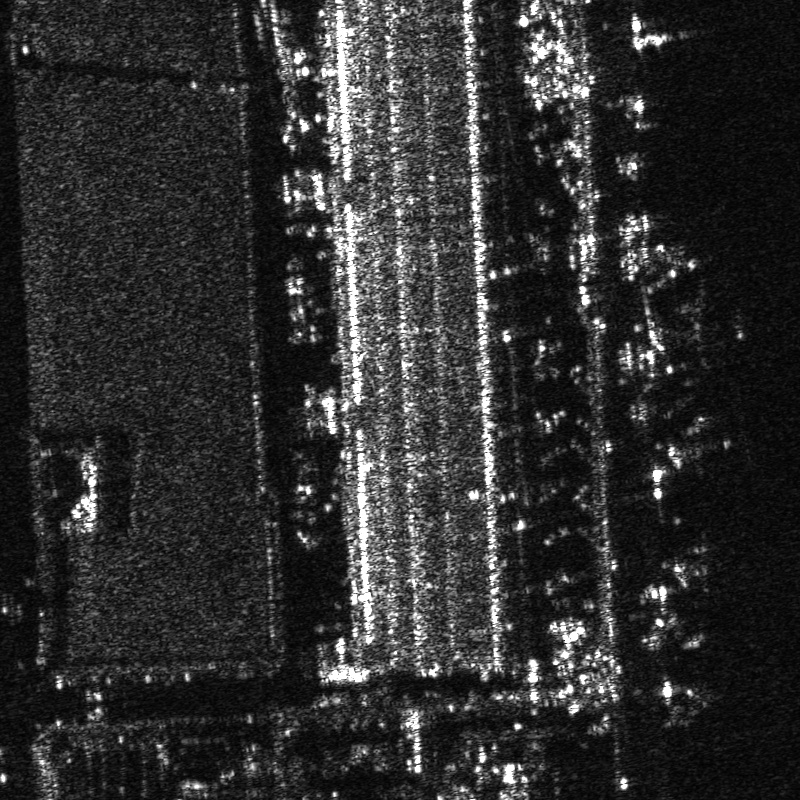A220: (645, 286, 752, 373)
other: (647, 405, 739, 473), (657, 528, 739, 593)
